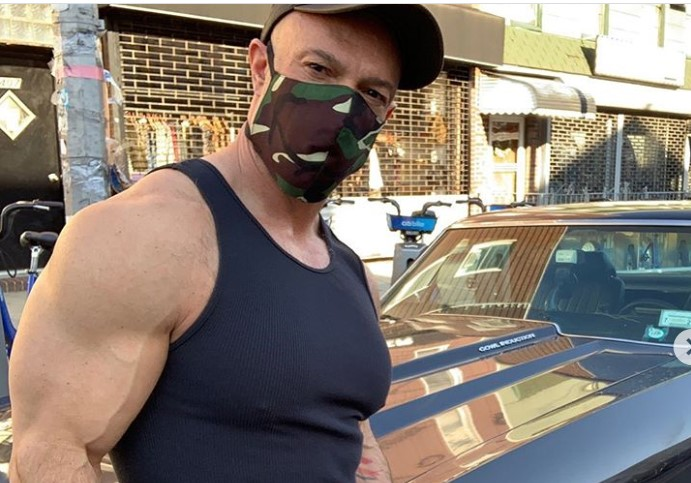face_with_mask: (248, 8, 438, 207)
